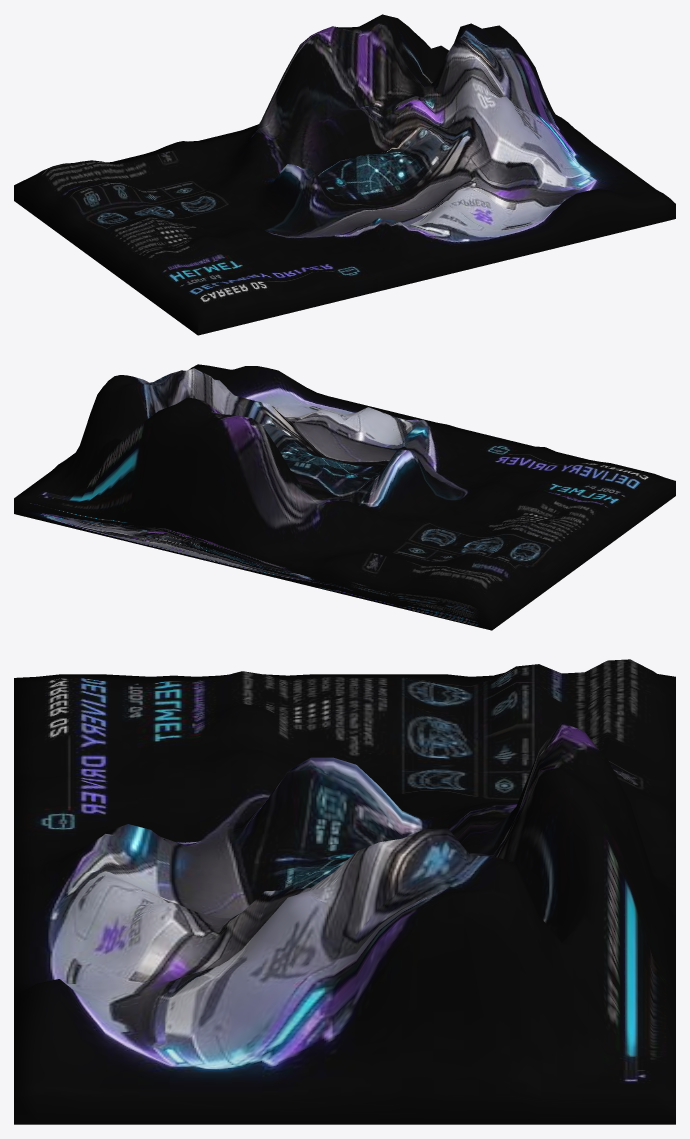
Rendered from CAREER_02_Tool_04_Helmet.glb.
The picture shows the model from 3 angles, top to bottom: view 1: azimuth 30°, elevation 25°; view 2: azimuth 150°, elevation 25°; view 3: azimuth 270°, elevation 25°; orthographic projection. The views are drawn at different scales.
Parts seen in each view (by area): view 1: CAREER_02_Tool_04_Helmet; view 2: CAREER_02_Tool_04_Helmet; view 3: CAREER_02_Tool_04_Helmet.
Boxes of the visible parts, x1=… form: CAREER_02_Tool_04_Helmet: x1=14, y1=14, x2=675, y2=335; CAREER_02_Tool_04_Helmet: x1=14, y1=364, x2=675, y2=630; CAREER_02_Tool_04_Helmet: x1=14, y1=659, x2=675, y2=1124.
Bounding box in the file's own units: 2 × 0.51 × 1.33.
Materials: 1 (1 with a texture image).
